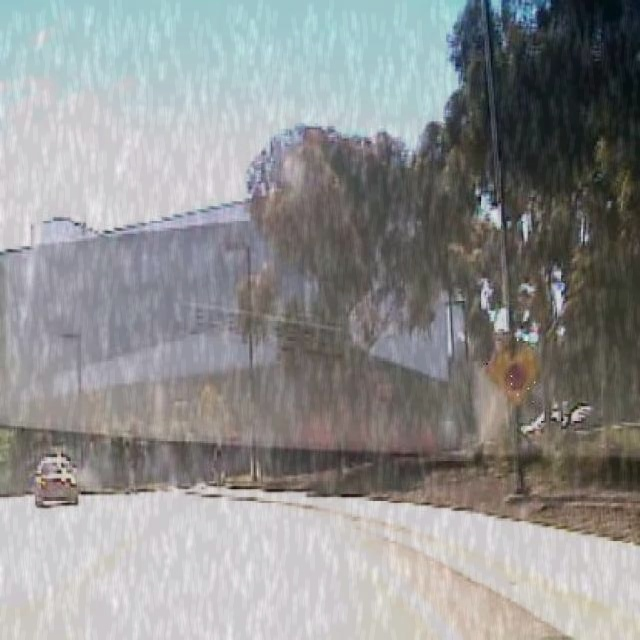stopAhead: (484, 329, 538, 407)
